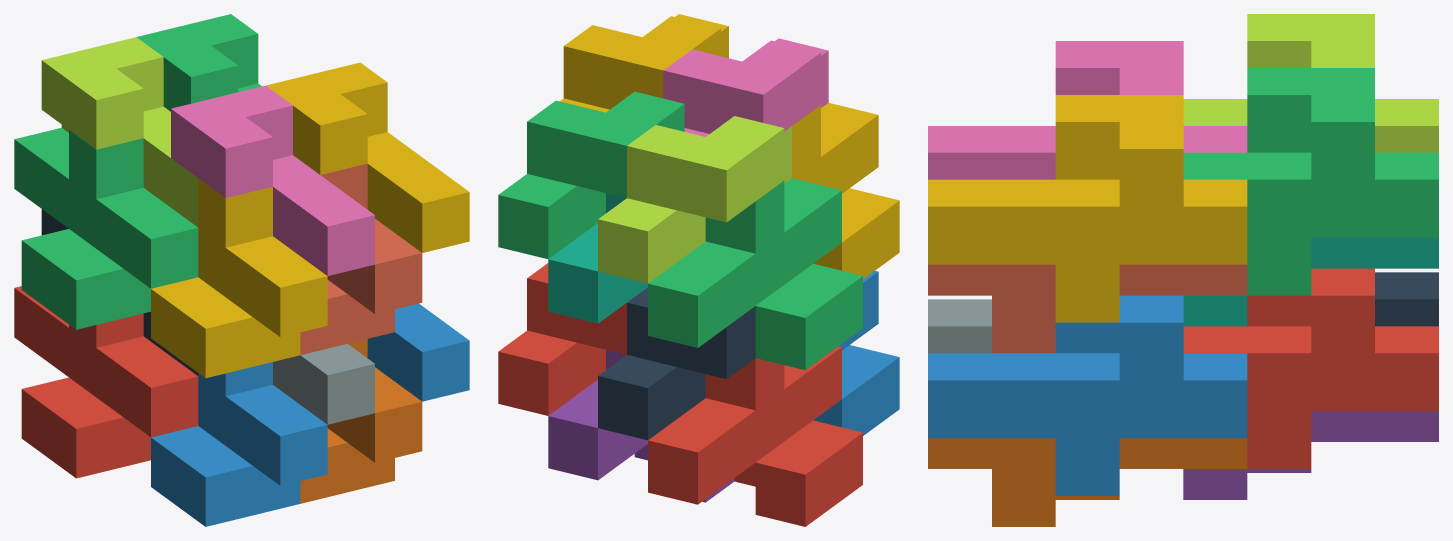
The model's file is tiling.obj.
3 views of the same model, side by side, from view 1: azimuth 30°, elevation 25°; view 2: azimuth 150°, elevation 25°; view 3: azimuth 270°, elevation 25° (orthographic). The views are drawn at different scales.
Parts seen in each view (by area): view 1: copy_1_domain_3, copy_1_domain_1, copy_1_domain_4, copy_1_domain_2, copy_2_domain_4, copy_2_domain_8, copy_2_domain_3, copy_1_domain_8, copy_1_domain_6, copy_2_domain_7, copy_2_domain_6, copy_2_domain_2 (+1 smaller); view 2: copy_1_domain_3, copy_1_domain_1, copy_2_domain_3, copy_2_domain_7, copy_2_domain_1, copy_2_domain_4, copy_1_domain_4, copy_2_domain_5, copy_2_domain_8, copy_1_domain_2, copy_1_domain_5, copy_1_domain_7; view 3: copy_2_domain_8, copy_2_domain_6, copy_2_domain_7, copy_2_domain_5, copy_2_domain_4, copy_2_domain_3, copy_1_domain_6, copy_1_domain_8, copy_1_domain_5, copy_1_domain_7, copy_2_domain_1, copy_2_domain_2.
Part boxes in pixels (x1,y1,x2,y2): copy_1_domain_3: (14, 128, 198, 329); copy_1_domain_1: (14, 286, 198, 478); copy_1_domain_4: (151, 178, 327, 378); copy_1_domain_2: (151, 362, 327, 526); copy_2_domain_4: (171, 85, 374, 275); copy_2_domain_8: (266, 62, 469, 252); copy_2_domain_3: (41, 37, 198, 227); copy_1_domain_8: (300, 163, 422, 354); copy_1_domain_6: (300, 339, 422, 503); copy_2_domain_7: (136, 14, 261, 111); copy_2_domain_6: (367, 303, 469, 401); copy_2_domain_2: (273, 344, 374, 424); copy_1_domain_3: (648, 178, 862, 370); copy_1_domain_1: (648, 346, 862, 526); copy_2_domain_3: (598, 116, 791, 283); copy_2_domain_7: (498, 91, 684, 258); copy_2_domain_1: (598, 287, 755, 440); copy_2_domain_4: (663, 38, 828, 136); copy_1_domain_4: (792, 103, 899, 278); copy_2_domain_5: (498, 263, 626, 415); copy_2_domain_8: (560, 14, 728, 112); copy_1_domain_2: (813, 271, 899, 435); copy_1_domain_5: (548, 350, 734, 502); copy_1_domain_7: (548, 193, 647, 323); copy_2_domain_8: (928, 95, 1247, 322); copy_2_domain_6: (928, 295, 1247, 495); copy_2_domain_7: (1183, 68, 1438, 295); copy_2_domain_5: (1183, 268, 1438, 468); copy_2_domain_4: (928, 41, 1247, 179); copy_2_domain_3: (1183, 14, 1438, 152); copy_1_domain_6: (928, 438, 1247, 526); copy_1_domain_8: (928, 264, 1247, 353); copy_1_domain_5: (1183, 411, 1438, 499); copy_1_domain_7: (1183, 237, 1438, 326); copy_2_domain_1: (1375, 272, 1438, 326); copy_2_domain_2: (928, 299, 991, 353).
Size of the model in its own units: 6 by 7 by 8.
